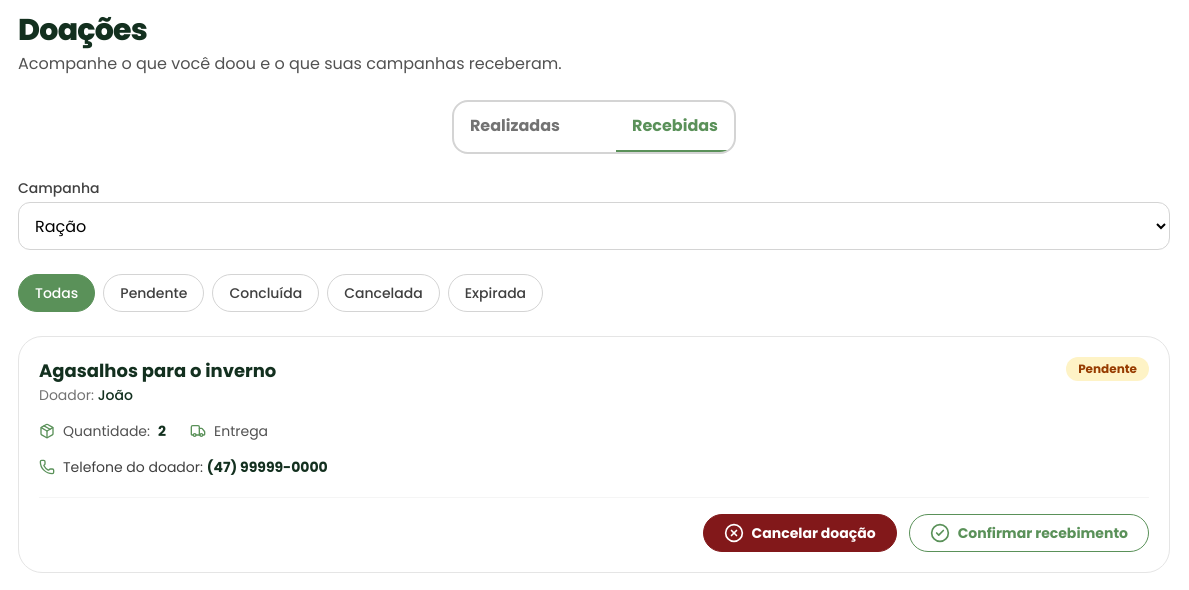
Scenario: MyCampaignsAndDonationsPage › aba "Recebidas" (minhas campanhas) › mostra as doações da primeira campanha e permite trocar
Check: the link "João" is shown, box top-left (98, 385), bottom-right (133, 405)
Select "Livros" in the dropdown labelled "Campanha" at [594, 226], box top-left (18, 202), bottom-right (1170, 250)
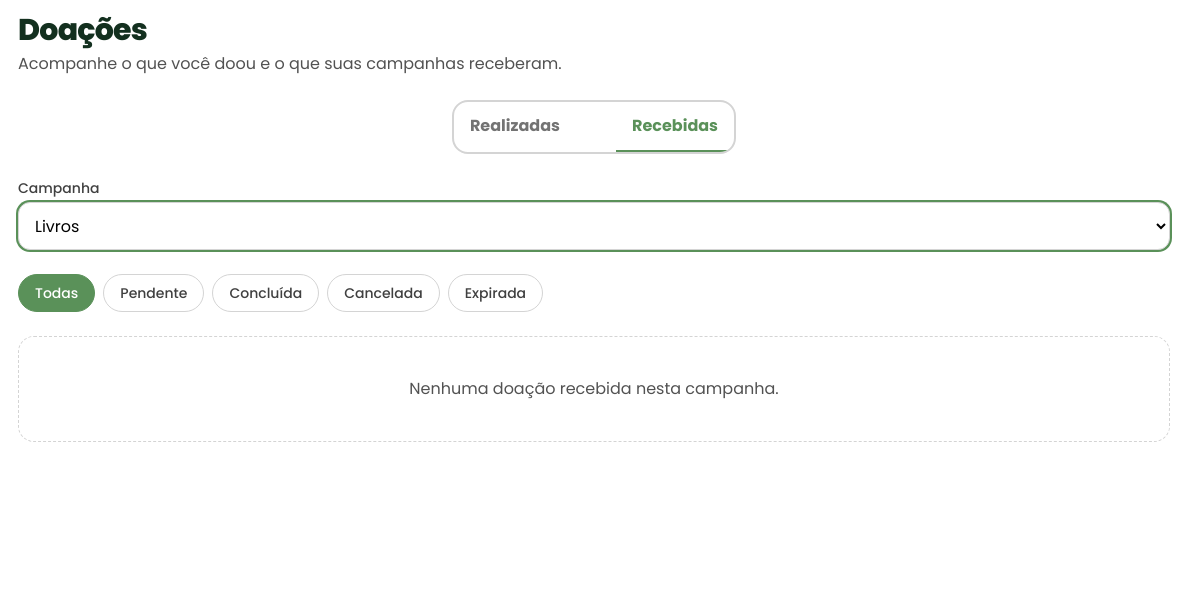
Check: the text "Nenhuma doação recebida nesta campanha." is shown, box top-left (18, 336), bottom-right (1170, 442)
